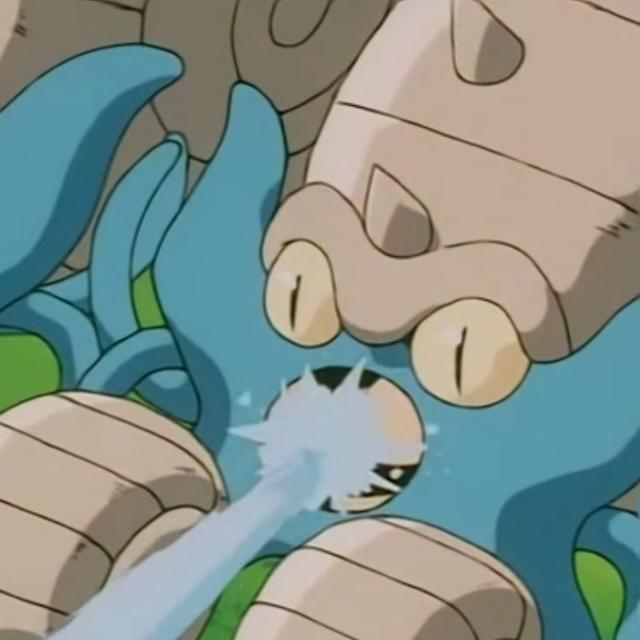Omastar: (220, 0, 640, 545)
